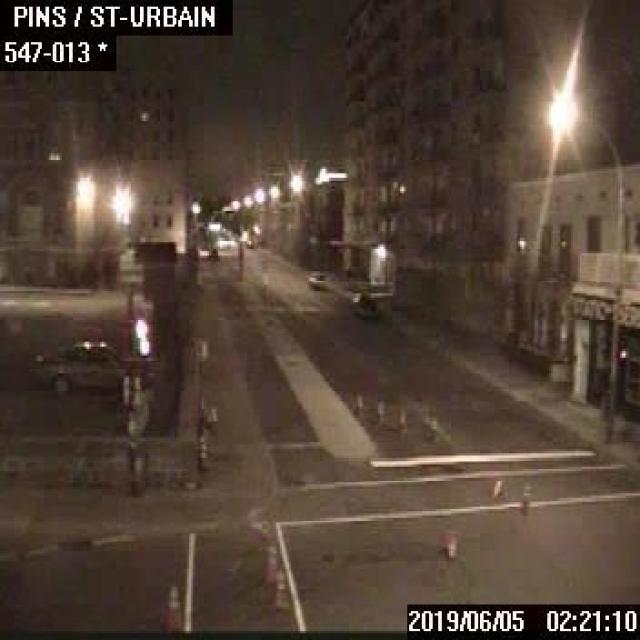construction: (267, 542, 284, 607), (166, 587, 182, 631), (520, 481, 531, 513), (491, 475, 506, 497), (373, 400, 384, 427), (396, 410, 407, 436), (352, 390, 364, 410), (446, 530, 455, 556)
vehicle: (34, 338, 157, 392), (347, 286, 378, 316), (307, 269, 326, 289)
